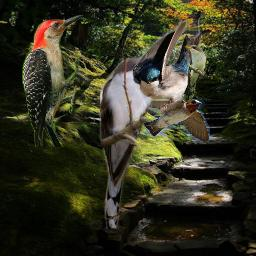Cuckoo: (98, 56, 164, 229), (182, 45, 207, 103)
Swallow: (132, 20, 202, 114), (134, 99, 210, 142)
Woodpecker: (22, 15, 92, 147)
